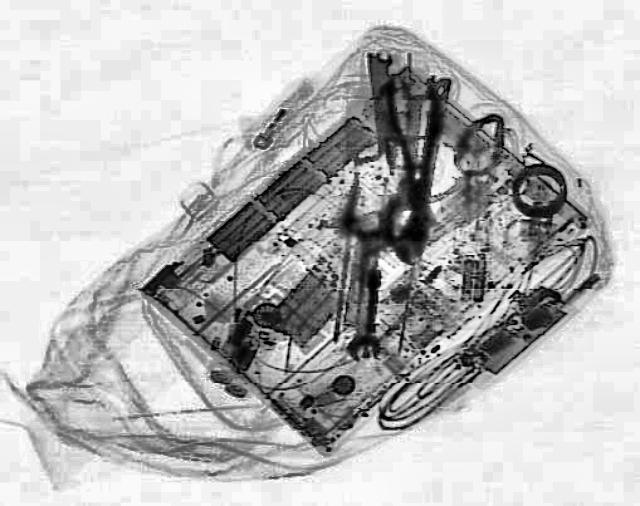Wrench: (342, 210, 393, 360)
